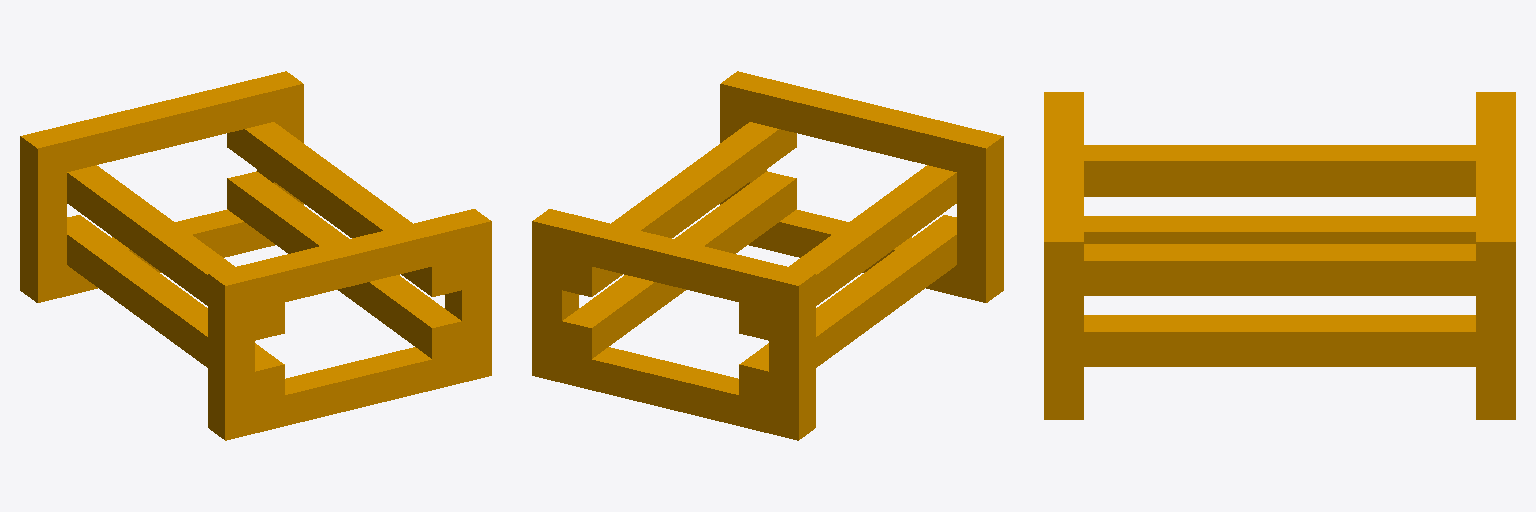
URDF robot description (objA):
<?xml version="1.0"?>
<robot name="objA">
	<link name="objA">
		<inertial>
			<!--origin xyz="0 0 0" rpy="0 0 0" /-->
			<mass value="0.5" />
			<!--inertia ixx="0.000360" ixy="0" ixz="0" iyy="0.0000615" iyz="0" izz="0.00036" /-->
		</inertial>
    		<visual>
	      		<!--origin rpy="0 0 0" xyz="0 0 0"/-->
      			<geometry>
        			<mesh filename="objA.obj"/>
      			</geometry>
         	</visual>
    		<collision>
      			<!--origin rpy="0 0 0" xyz="0 0 0"/-->
      			<geometry>
        			<mesh filename="objA.obj"/>
      			</geometry>
    		</collision>
	</link>
</robot>

--- Facts derived from the render (not from the file) ---
The picture shows the robot from 3 angles, left to right: view 1: azimuth 30°, elevation 25°; view 2: azimuth 150°, elevation 25°; view 3: azimuth 270°, elevation 25°; orthographic projection.
Robot: objA — 1 links, 0 joints (none); root link objA; default pose: all joints at 0.
Links seen in each view (by area): view 1: objA; view 2: objA; view 3: objA.
Boxes of the visible links, x1,y1,x2,y2 form: objA: (20,71,491,440); objA: (532,71,1003,440); objA: (1044,92,1515,419).
Size in the robot's own frame: 0.09 by 0.12 by 0.05 metres.
Meshes: 1 distinct files referenced, 1 mesh visuals loaded (1 OBJ).